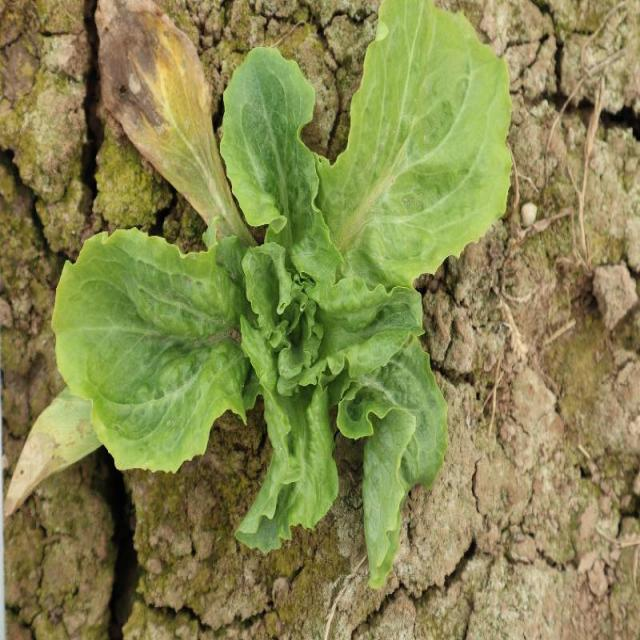crop: (50, 2, 517, 591)
